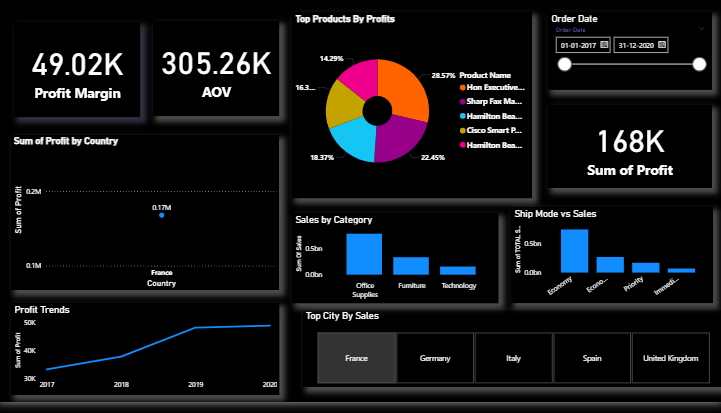

This screenshot's page, from the dashboard's own definition file:
{"tool":"powerbi","page":{"name":"Page 3","canvas":[1280,720],"ordinal":0},"visuals":[{"type":"card","title":"Profit Margin","fields":{"Values":["Sum(List of Orders.PROFIT MARGIN)"]},"box":[30.2,48.7,223.4,168],"z":0},{"type":"card","fields":{"Values":["Sum(List of Orders.Profit)"]},"box":[972.3,195.6,289.1,146],"z":1000},{"type":"lineChart","fields":{"Category":["List of Orders.Country"],"Y":["Sum(List of Orders.Profit)"]},"box":[25.5,248,473.4,273.5],"z":2000},{"type":"slicer","title":"Order Date ","fields":{"Values":["List of Orders.Order Date"]},"box":[972.3,31.2,289.1,137.5],"z":3000},{"type":"donutChart","title":"Top Products By Profits","fields":{"Category":["List of Orders.Product Name"],"Y":["Sum(List of Orders.Quantity)"]},"box":[520.1,31.7,423.1,327.9],"z":4000},{"type":"card","fields":{"Values":["Sum(List of Orders.AOV MEAS)"]},"box":[274.9,48.1,223.4,168.4],"z":5000},{"type":"lineChart","title":"Profit Trends ","fields":{"Category":["List of Orders.Order Date.Variation.Date Hierarchy.Year","List of Orders.Order Date.Variation.Date Hierarchy.Quarter","List of Orders.Order Date.Variation.Date Hierarchy.Month","List of Orders.Order Date.Variation.Date Hierarchy.Day"],"Y":["Sum(List of Orders.Profit)"]},"box":[25.5,544.3,473.4,161.6],"z":6000},{"type":"columnChart","title":"Sales by Category","fields":{"Category":["List of Orders.Category"],"Y":["Sum(List of Orders.TOTAL SALES)"]},"box":[520.2,385.5,364.3,158.7],"z":7000},{"type":"columnChart","title":"Ship Mode vs Sales","fields":{"Category":["List of Orders.Ship Mode"],"Y":["Sum(List of Orders.TOTAL SALES)"]},"box":[905.7,375.6,355.7,168.7],"z":8000},{"type":"slicer","title":"Top City By Sales","fields":{"Values":["List of Orders.Country"]},"box":[520.2,569.8,741.3,136.1],"z":9000}]}

Visuals, with their boxes in screenshot pixels (x1, y1, x2, y2), scaled from the page's 1280x720 canvas onto the 721x413 screenshot:
"Profit Margin" card: x1=17 y1=28 x2=143 y2=124
card - Sum(List of Orders.Profit): x1=548 y1=112 x2=711 y2=196
lineChart - List of Orders.Country x Sum(List of Orders.Profit): x1=14 y1=142 x2=281 y2=299
"Order Date " slicer: x1=548 y1=18 x2=711 y2=97
"Top Products By Profits" donutChart: x1=293 y1=18 x2=531 y2=206
card - Sum(List of Orders.AOV MEAS): x1=155 y1=28 x2=281 y2=124
"Profit Trends " lineChart: x1=14 y1=312 x2=281 y2=405
"Sales by Category" columnChart: x1=293 y1=221 x2=498 y2=312
"Ship Mode vs Sales" columnChart: x1=510 y1=215 x2=711 y2=312
"Top City By Sales" slicer: x1=293 y1=327 x2=711 y2=405
